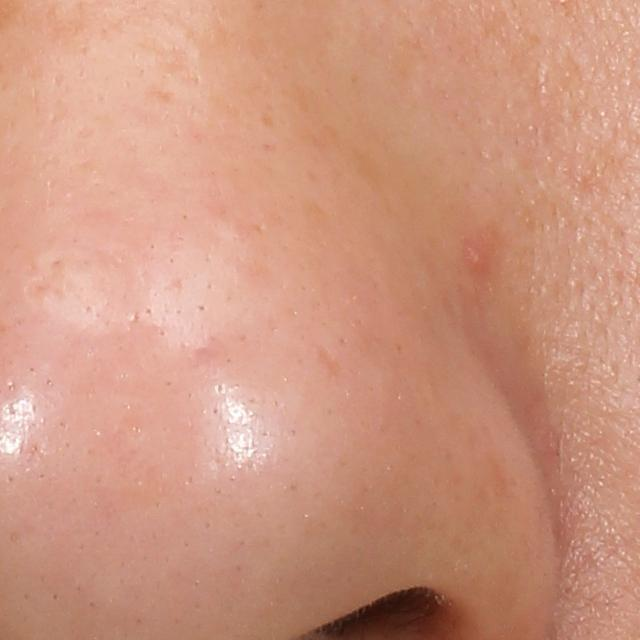atrophic_scar: (22, 251, 77, 309)
papule: (463, 237, 493, 275)
